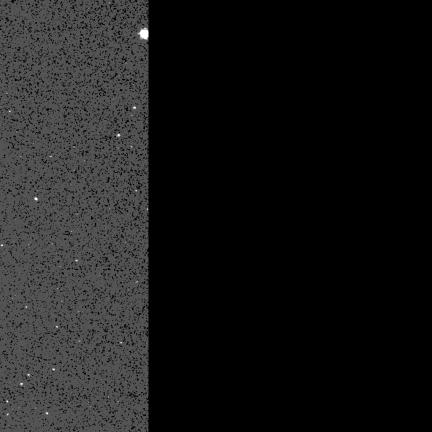blob: (117, 134, 121, 138), (35, 198, 39, 201), (20, 383, 24, 386), (46, 412, 49, 416), (53, 369, 55, 371)
